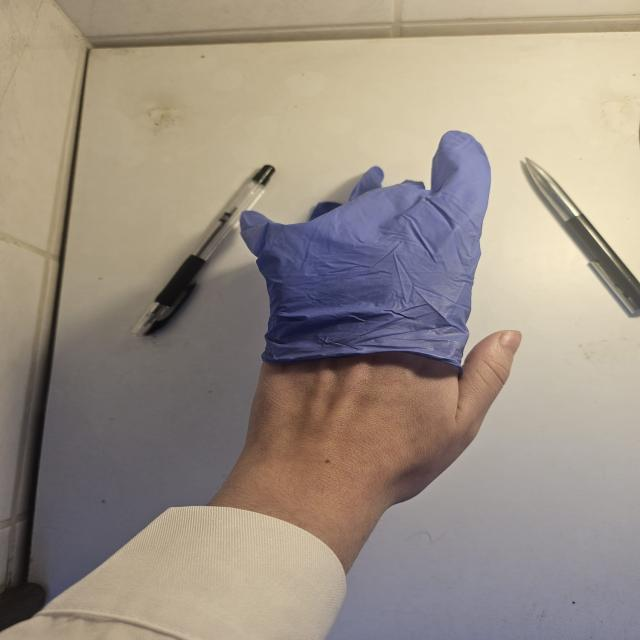glove_partial: (239, 128, 523, 510)
